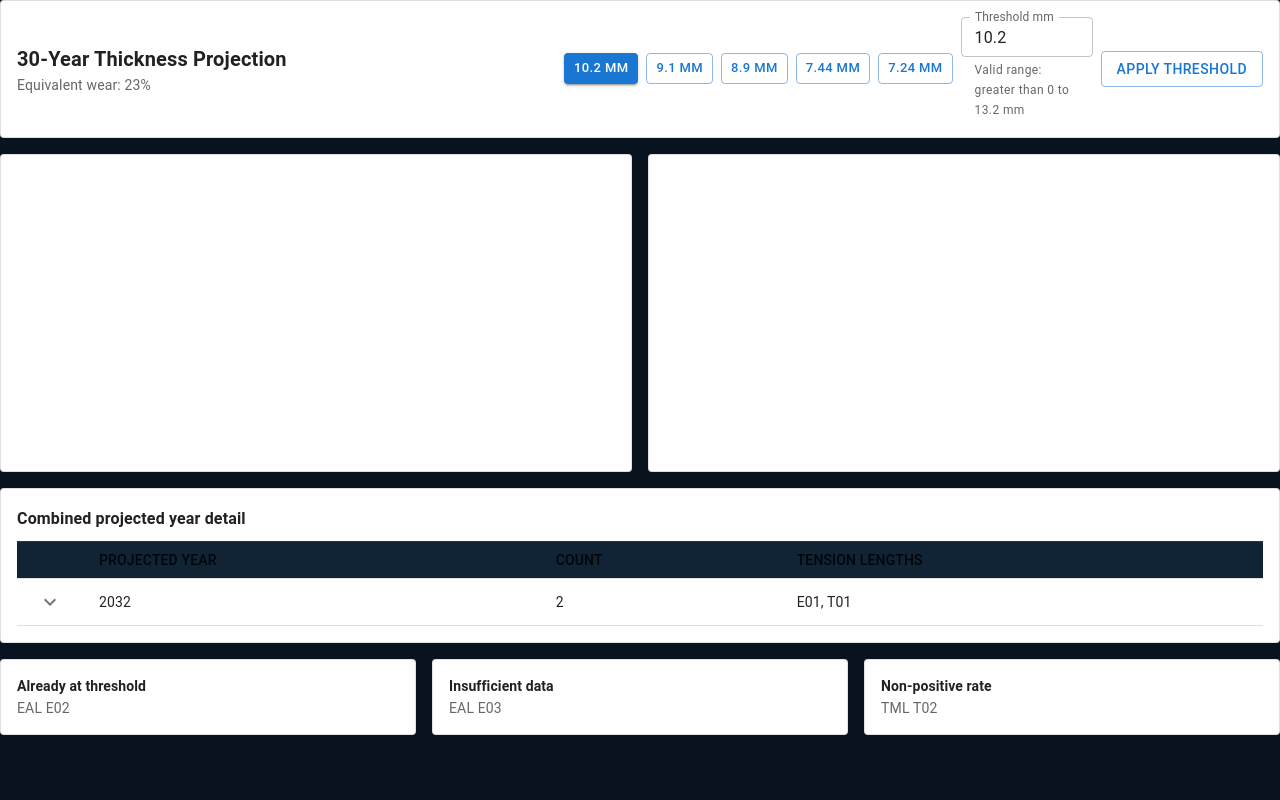
Test: WearProjectionPanel › rejects invalid custom threshold  without changing the active request
This screenshot has width=1280, height=800.
Clear the number field labelled "Threshold mm" at (1027, 37), box 961,17 -> 1093,57
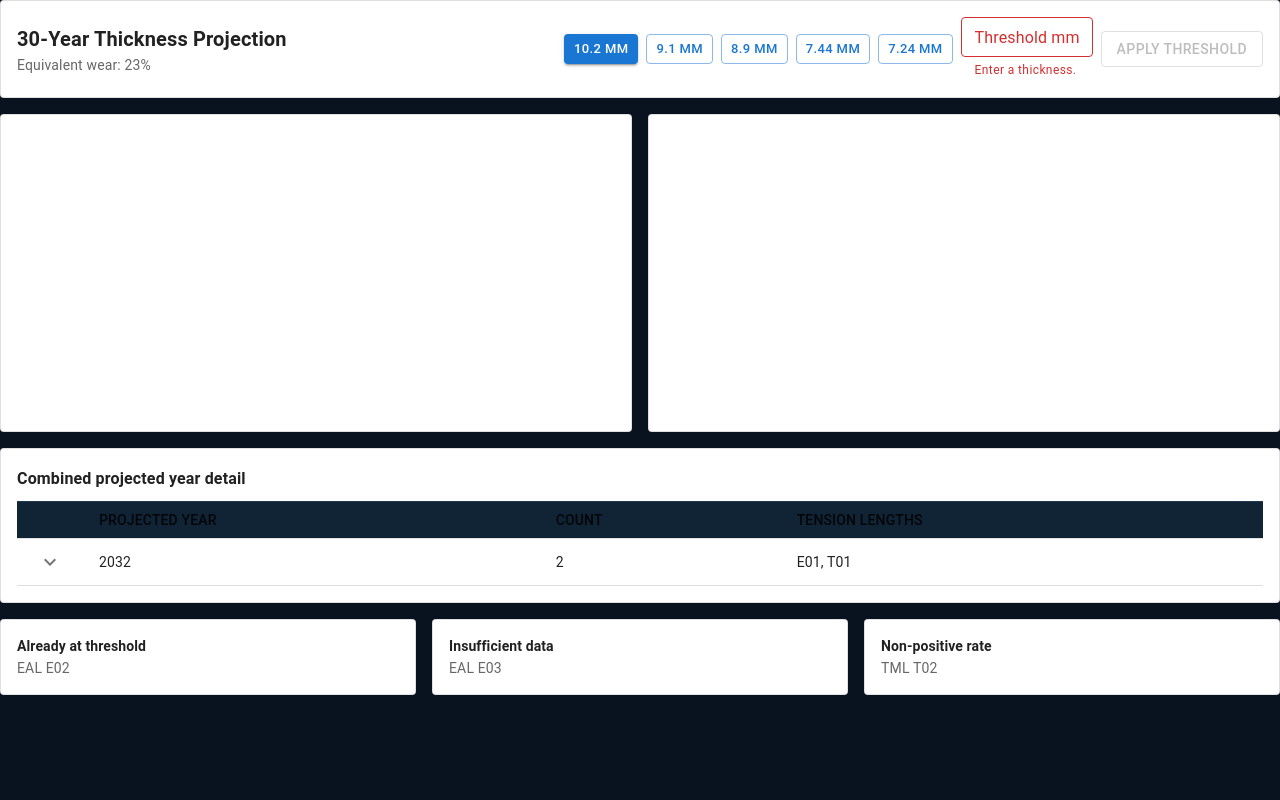
Expected: the text "Enter a thickness." is shown, 975,61 -> 1079,81
Expected: the button "Apply threshold" is disabled, 1101,31 -> 1263,67
